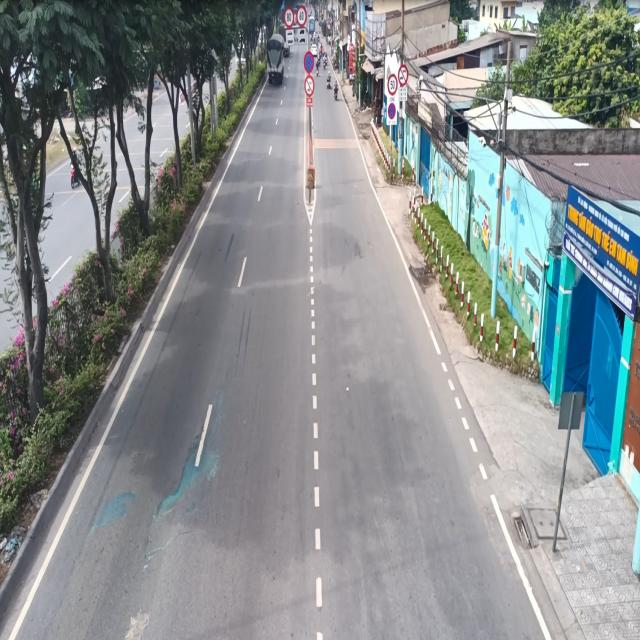truck: (264, 26, 287, 91)
